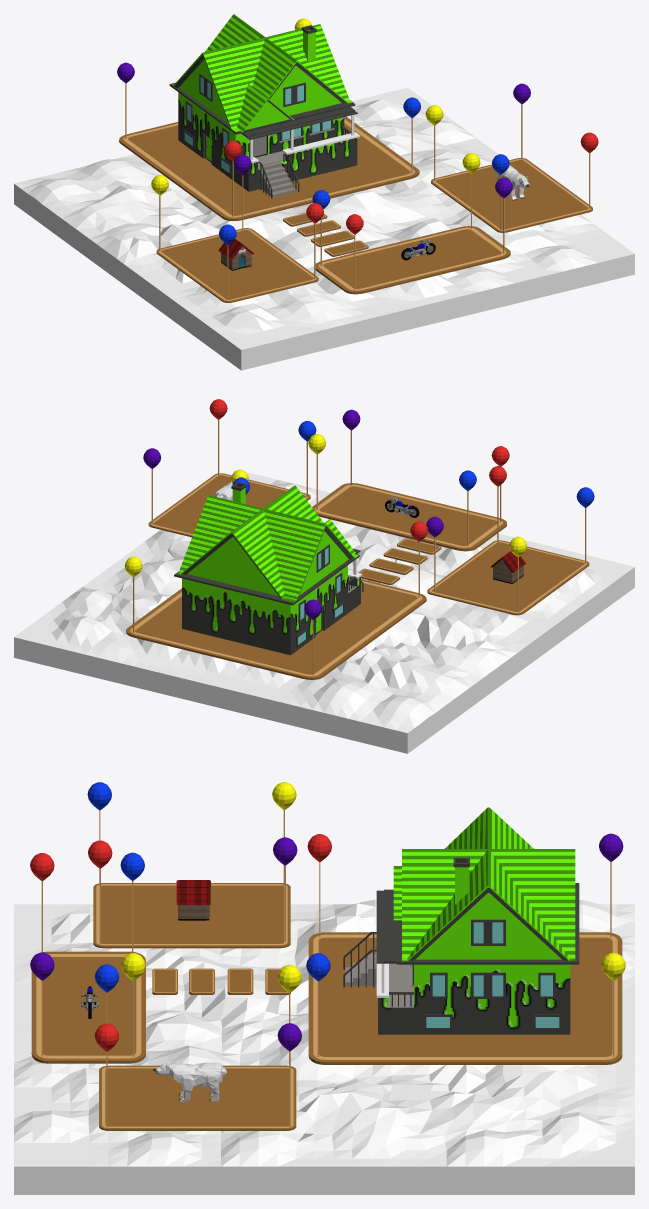
The picture shows the model from 3 angles, top to bottom: view 1: azimuth 30°, elevation 25°; view 2: azimuth 150°, elevation 25°; view 3: azimuth 270°, elevation 25°; orthographic projection. The views are drawn at different scales.
Visible parts, largest first — view 1: Cube.013, Cube.754, OBJRANDOM_DOGHOUSE, ANIMAL_OSO_POLAR; view 2: Cube.013, Cube.754, OBJRANDOM_DOGHOUSE; view 3: Cube.013, Cube.754, ANIMAL_OSO_POLAR, OBJRANDOM_DOGHOUSE.
Part boxes in pixels (x1,y1,x2,y2): Cube.013: [14, 18, 634, 370]; Cube.754: [169, 14, 360, 198]; OBJRANDOM_DOGHOUSE: [218, 239, 253, 270]; ANIMAL_OSO_POLAR: [497, 165, 529, 200]; Cube.013: [14, 399, 634, 753]; Cube.754: [174, 482, 363, 655]; OBJRANDOM_DOGHOUSE: [491, 551, 526, 583]; Cube.013: [14, 782, 634, 1194]; Cube.754: [343, 807, 579, 1034]; ANIMAL_OSO_POLAR: [153, 1060, 226, 1101]; OBJRANDOM_DOGHOUSE: [176, 880, 210, 920].
Bounding box in the file's own units: 4000 × 1788 × 4000.
33 materials, 2 textured.
